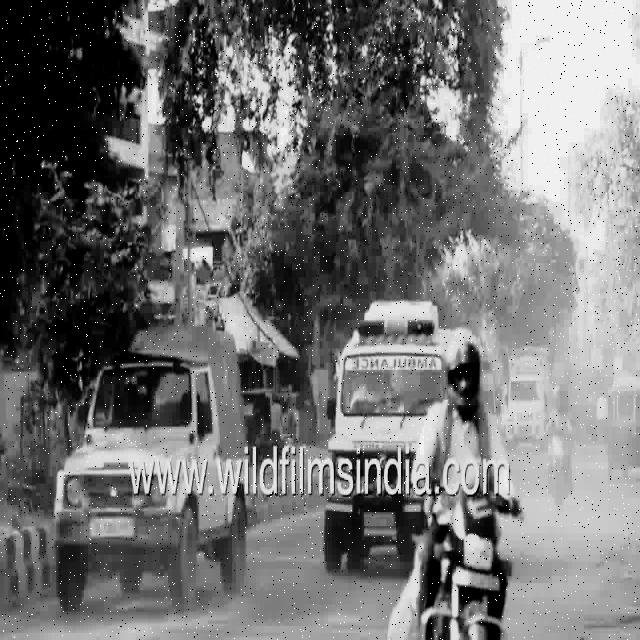Ambulance: (324, 283, 470, 447)
